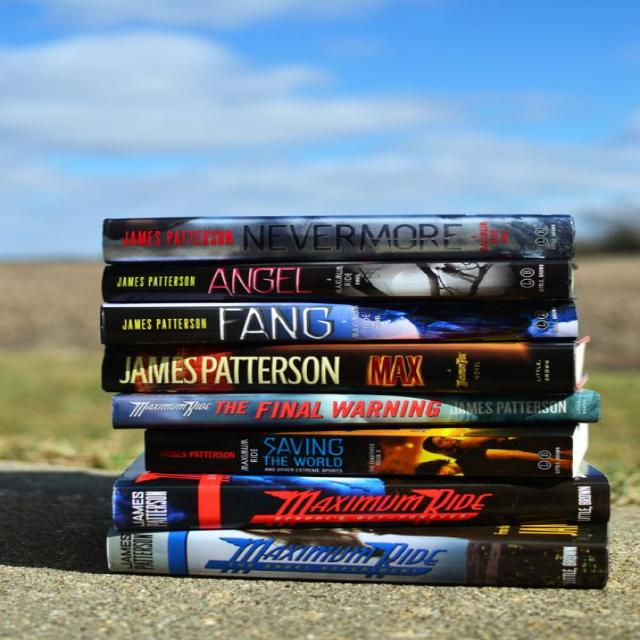book: (107, 535, 608, 590), (112, 481, 610, 531), (102, 216, 574, 263), (102, 347, 574, 394), (100, 300, 578, 346), (145, 430, 573, 478), (103, 262, 573, 303), (113, 394, 599, 427)
